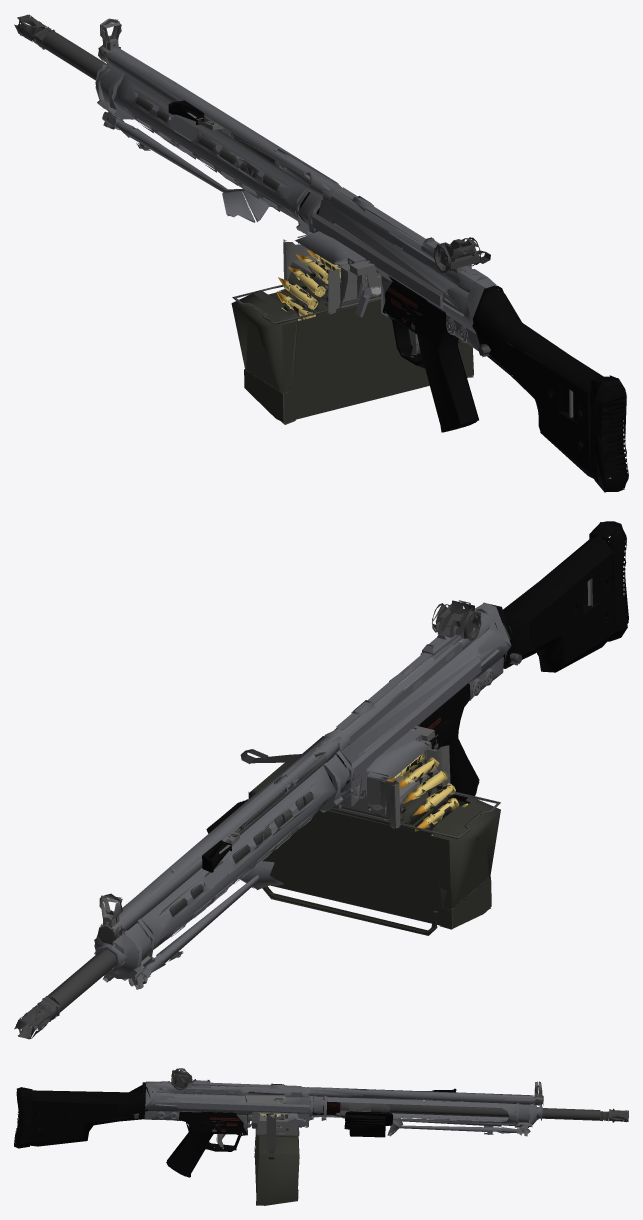
3 renders of one model, top to bottom at view 1: azimuth 30°, elevation 25°; view 2: azimuth 150°, elevation 25°; view 3: azimuth 270°, elevation 25°, orthographic. The views are drawn at different scales.
Visible parts, largest first — view 1: body, mag; view 2: body, mag; view 3: body, mag.
Boxes of the visible parts, x1,y1,x2,y2 form: body: (14, 14, 628, 492); mag: (231, 250, 490, 424); body: (14, 521, 628, 1039); mag: (240, 749, 500, 935); body: (14, 1068, 628, 1177); mag: (254, 1126, 299, 1205).
Bounding box in the file's own units: 0.2648 × 0.2304 × 1.14.
4 materials, 1 textured.
